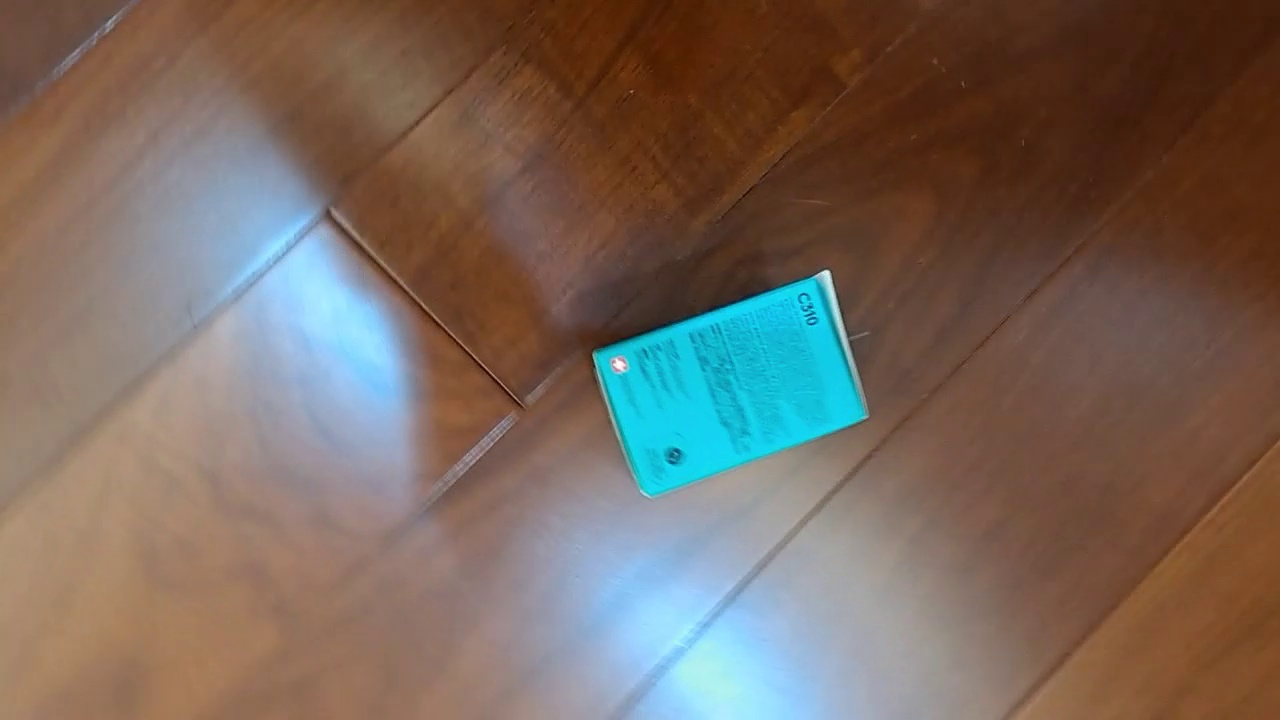webcam: (592, 268, 869, 500)
